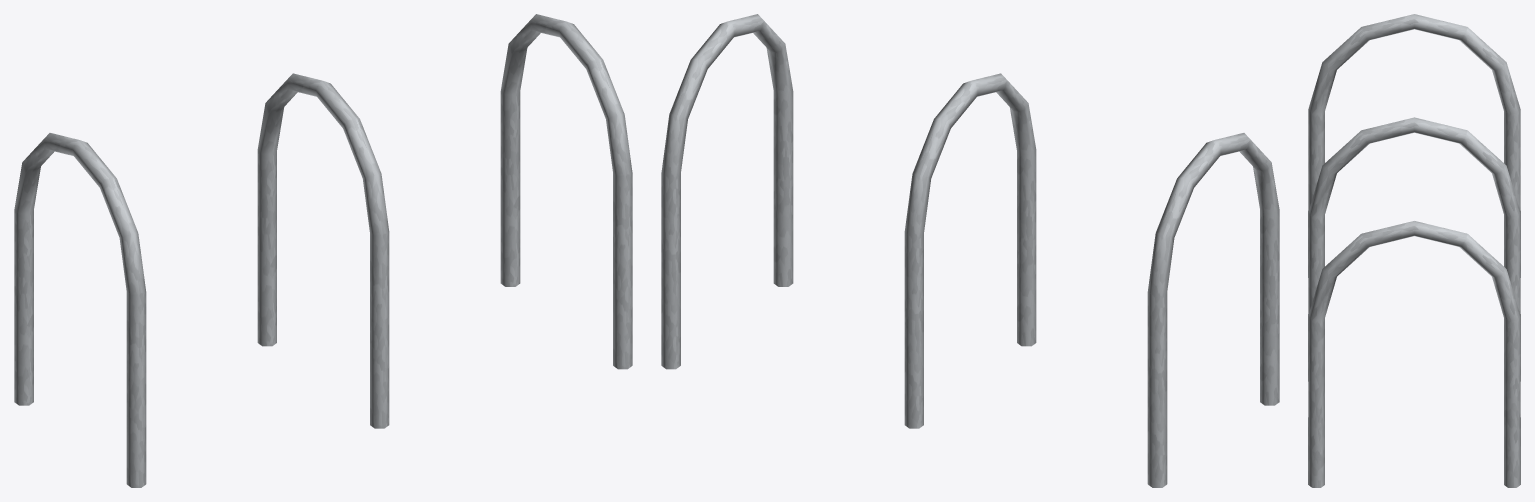
Rendered from bike_rack.gltf.
3 views of the same model, side by side, from view 1: azimuth 30°, elevation 25°; view 2: azimuth 150°, elevation 25°; view 3: azimuth 270°, elevation 25° (orthographic). The views are drawn at different scales.
Parts seen in each view (by area): view 1: bike_rack; view 2: bike_rack; view 3: bike_rack.
Boxes of the visible parts, box(x1,y1,x2,y2) form: bike_rack: box(14, 14, 632, 487); bike_rack: box(661, 14, 1279, 487); bike_rack: box(1308, 14, 1520, 487).
Bounding box in the file's own units: 1.78 × 1.03 × 0.7498.
Materials: 1 (1 with a texture image).
